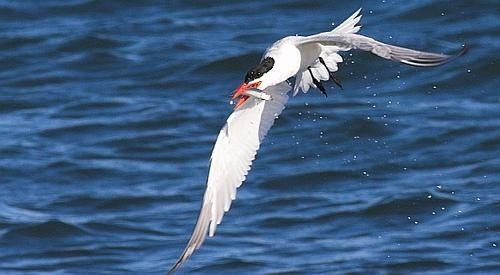bird: (166, 6, 468, 270)
